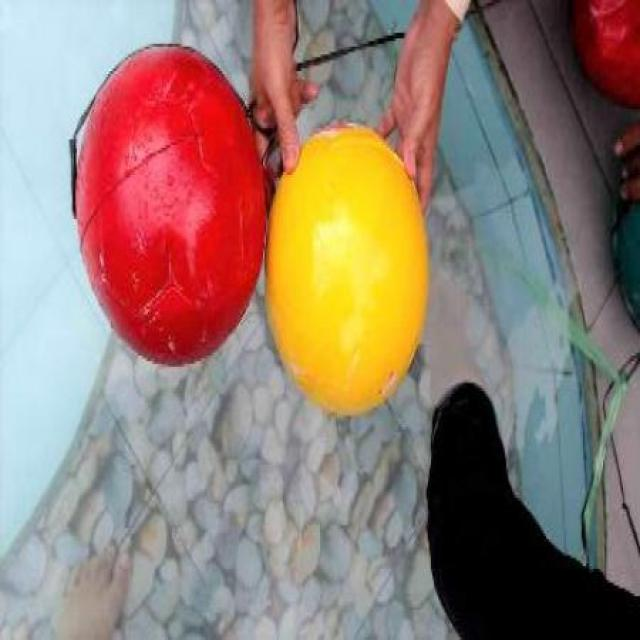buoy: (74, 45, 264, 365), (264, 122, 426, 414)
